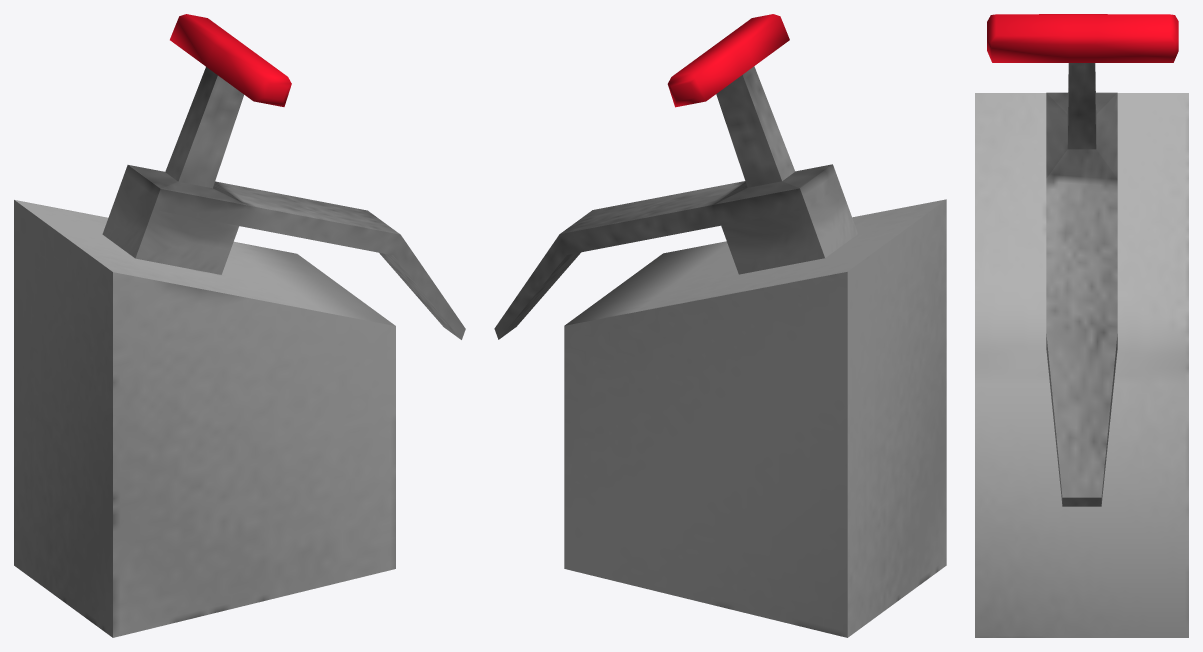
The model's file is sauce_dispenser.fbx.
The picture shows the model from 3 angles, left to right: view 1: azimuth 30°, elevation 25°; view 2: azimuth 150°, elevation 25°; view 3: azimuth 270°, elevation 25°; orthographic projection. The views are drawn at different scales.
Parts seen in each view (by area): view 1: SauceThing; view 2: SauceThing; view 3: SauceThing.
Boxes of the visible parts, x1,y1,x2,y2 form: SauceThing: (14, 14, 465, 637); SauceThing: (494, 14, 946, 637); SauceThing: (975, 14, 1188, 637).
Size of the model in its own units: 25.77 by 32.45 by 11.22.
